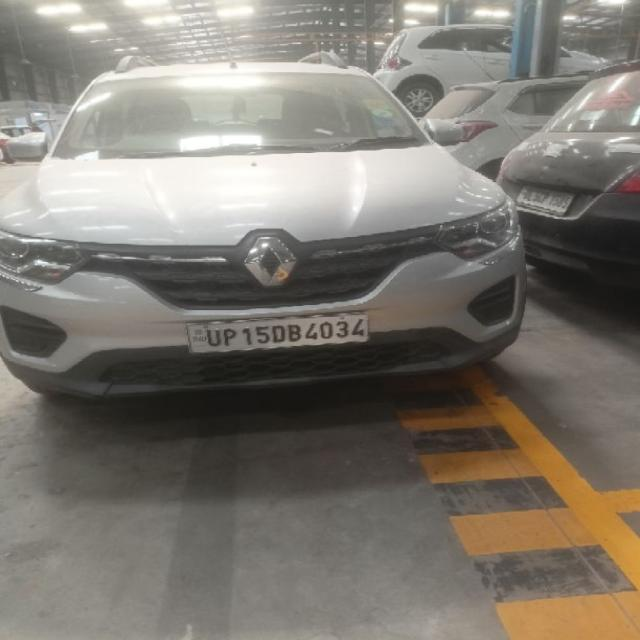license_plate: (184, 310, 370, 354), (515, 184, 575, 216)
